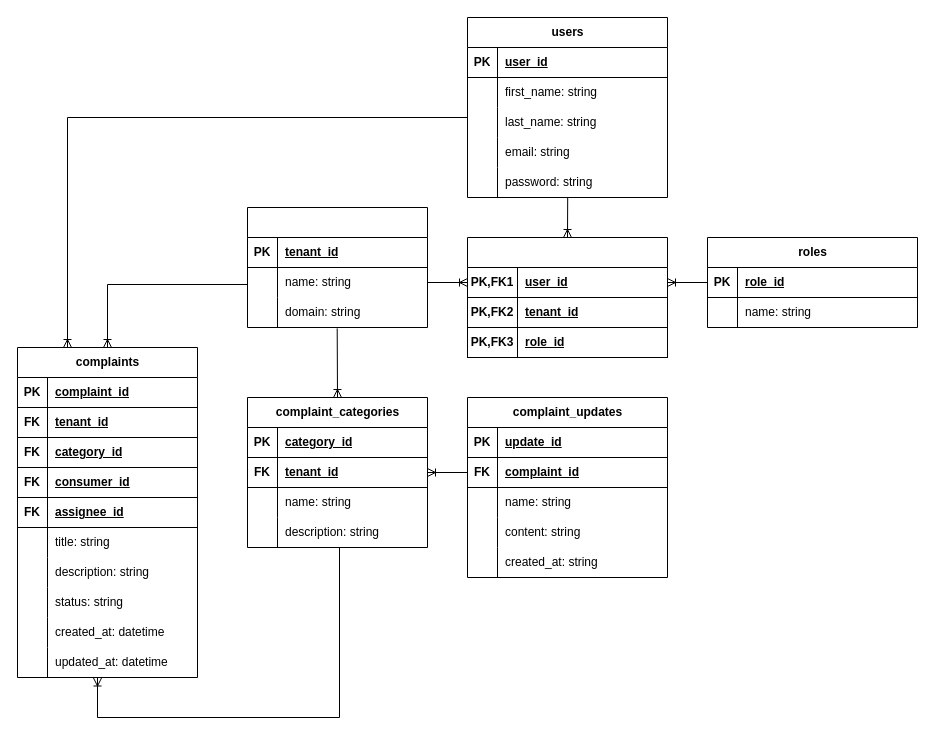
This 935x743 diagram has some shape labels left out. The box of each missing label's shape, as (x1, y1, x2, y2) in pixels:
tenants: (246, 206, 428, 328)
users_roles: (466, 236, 668, 358)
